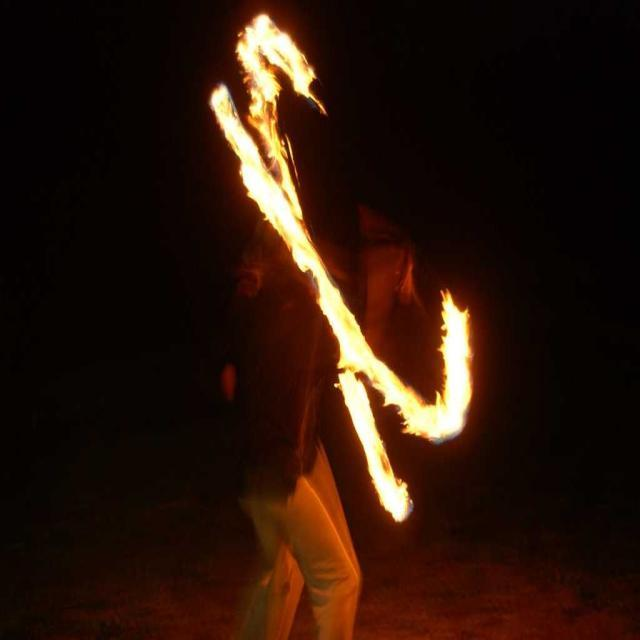Fire: (240, 24, 309, 96), (439, 296, 472, 434), (242, 158, 291, 209), (345, 378, 380, 446), (332, 300, 369, 354), (374, 468, 412, 516), (214, 92, 242, 134)
